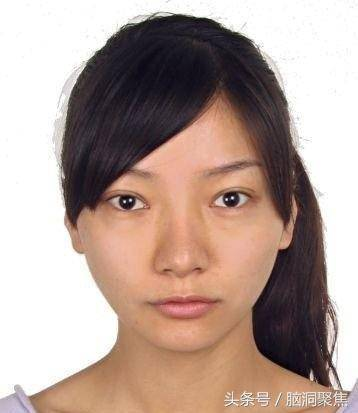unmask: (97, 150, 268, 340)
